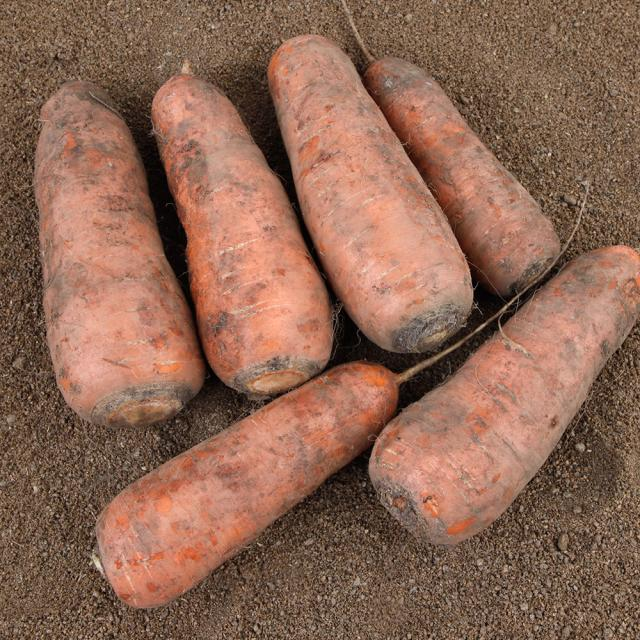carrot: (88, 360, 426, 615), (367, 245, 638, 554), (269, 32, 479, 350), (31, 78, 208, 432), (152, 72, 340, 402), (362, 54, 561, 301)
